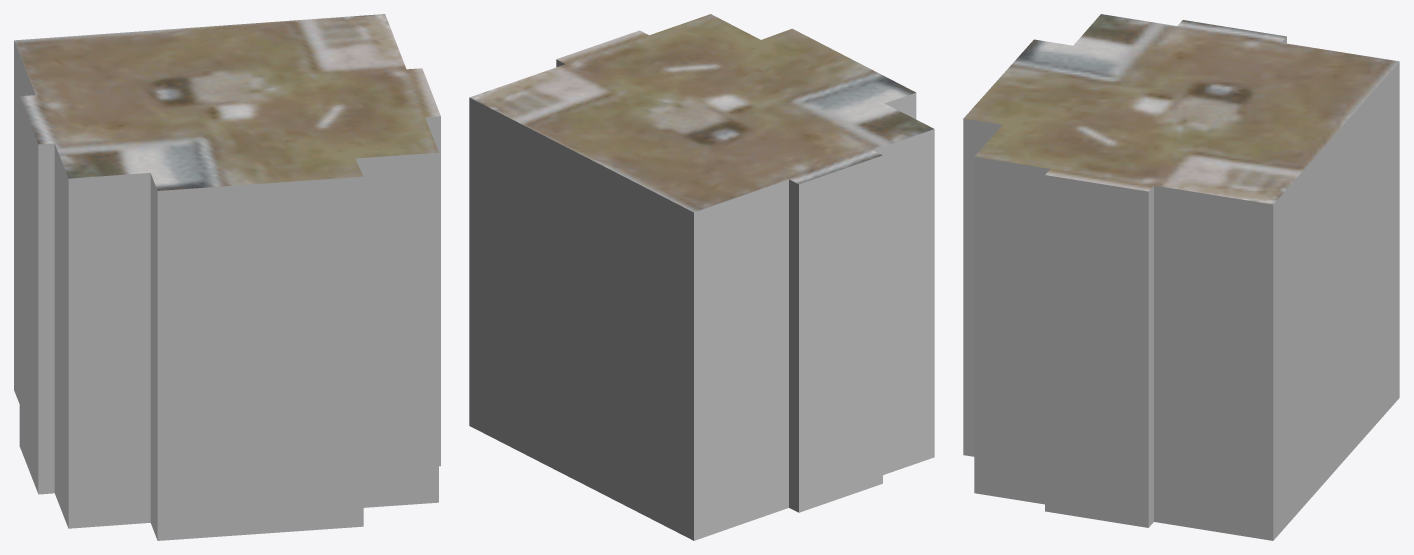
The model's file is DEBW_0010007Txfw.gltf.
3 renders of one model, left to right at view 1: azimuth 30°, elevation 25°; view 2: azimuth 150°, elevation 25°; view 3: azimuth 270°, elevation 25°, orthographic. The views are drawn at different scales.
Visible parts, largest first — view 1: Z_UP; view 2: Z_UP; view 3: Z_UP.
Part boxes in pixels (x1,y1,x2,y2): Z_UP: (14, 14, 440, 540); Z_UP: (469, 14, 934, 540); Z_UP: (963, 14, 1399, 540).
Size of the model in its own units: 18.79 by 15.47 by 18.19.
Materials: 2 (1 with a texture image).
